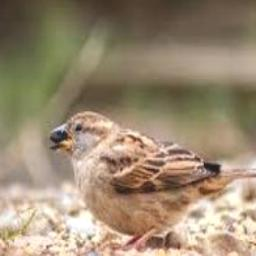Sparrow: (50, 110, 256, 251)
